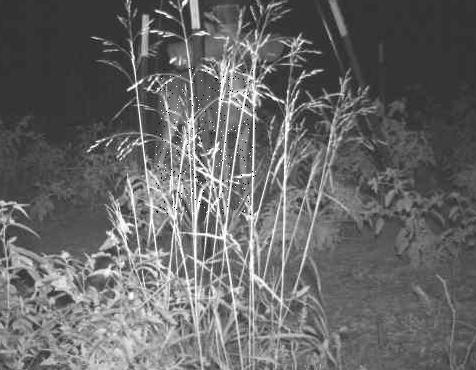Deer: (156, 68, 256, 215)
